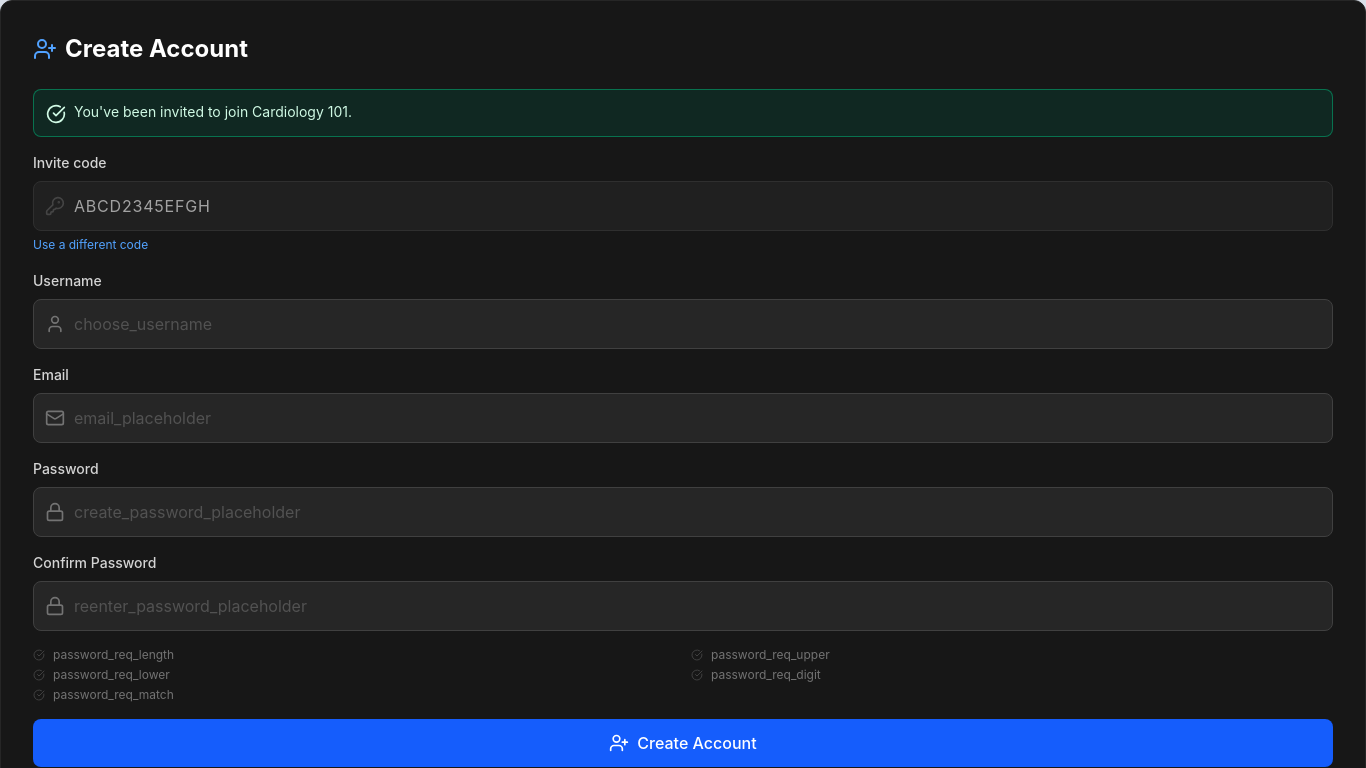
Test case: RegisterPage invite code › prefills and locks the code when you arrived on a working link
The image size is (1366, 768).
Check: the field with placeholder "invite_code_placeholder" holds "ABCD2345EFGH", box [33,181,1333,231]
Check: the field with placeholder "invite_code_placeholder" is disabled, box [33,181,1333,231]
The escape hatch: someone forwarded you their link but you have your own code.
Click the button "Use a different code".
click(91, 245)  # box [33,237,148,253]
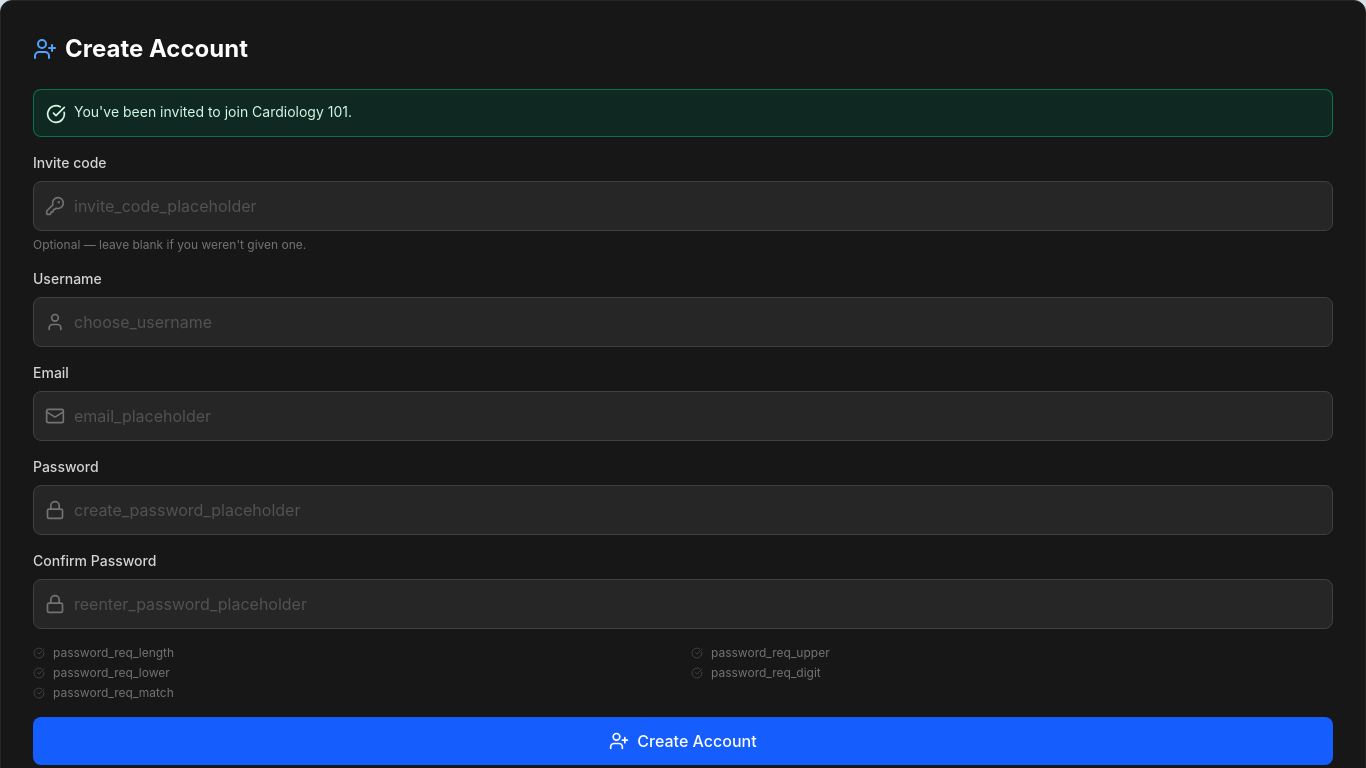
Check: the field with placeholder "invite_code_placeholder" is enabled, box [33,181,1333,231]
Check: the field with placeholder "invite_code_placeholder" is empty, box [33,181,1333,231]
